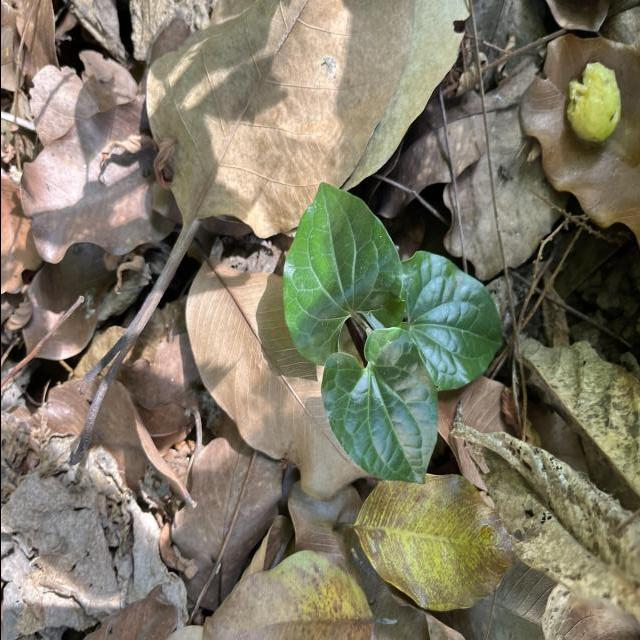Piper longum: (280, 180, 408, 368), (316, 326, 439, 487)
